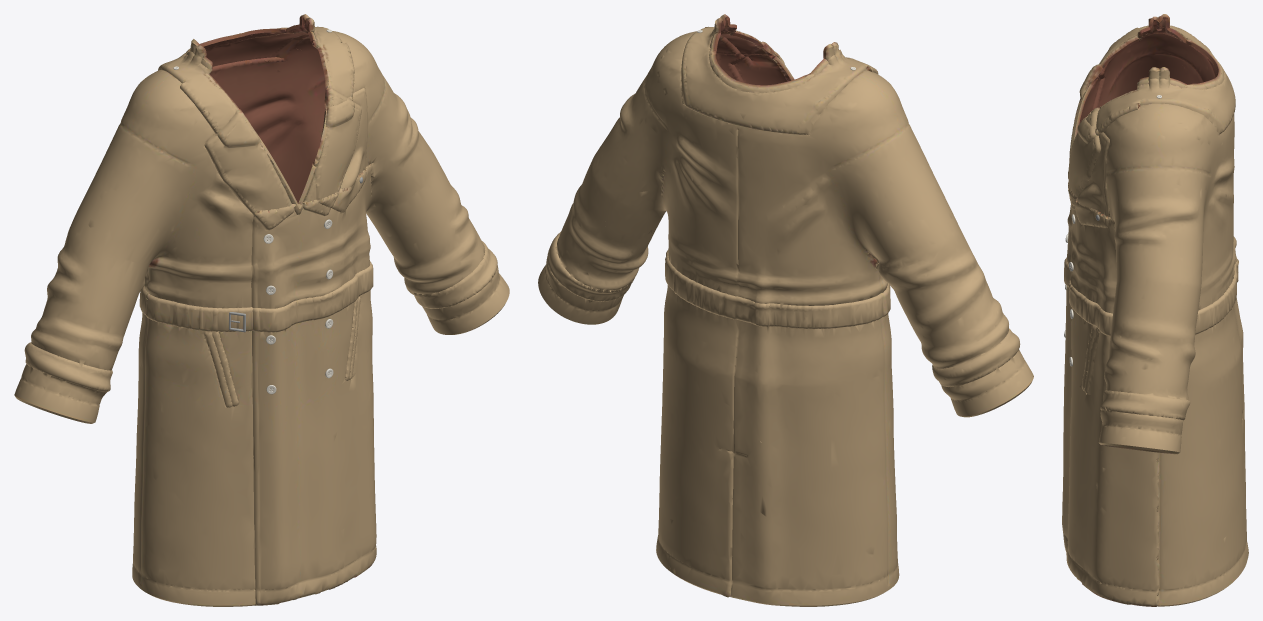
The model's file is 01_gabardina_pbr.glb.
3 renders of one model, left to right at view 1: azimuth 30°, elevation 25°; view 2: azimuth 150°, elevation 25°; view 3: azimuth 270°, elevation 25°, orthographic. The views are drawn at different scales.
Visible parts, largest first — view 1: Camiseta PBR; view 2: Camiseta PBR; view 3: Camiseta PBR.
Part boxes in pixels (x1,y1,x2,y2): Camiseta PBR: [14, 14, 509, 606]; Camiseta PBR: [538, 14, 1033, 606]; Camiseta PBR: [1062, 14, 1248, 606].
Bounding box in the file's own units: 1.07 × 1.14 × 0.3742.
3 materials, 1 textured.
